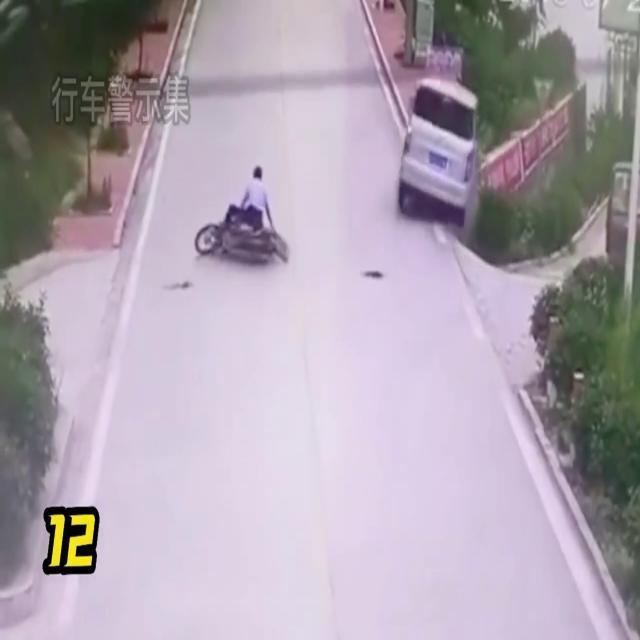accident: (192, 75, 480, 278)
